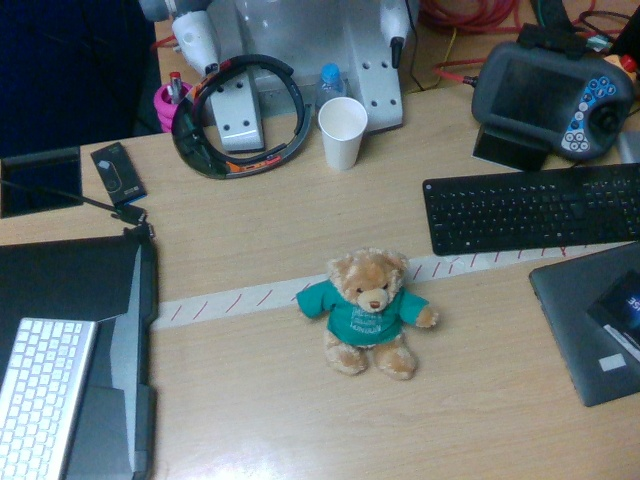teddy: (296, 249, 440, 379)
